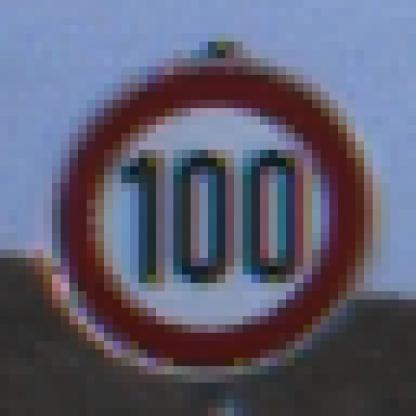Speed Limit 100: (59, 70, 370, 368)
